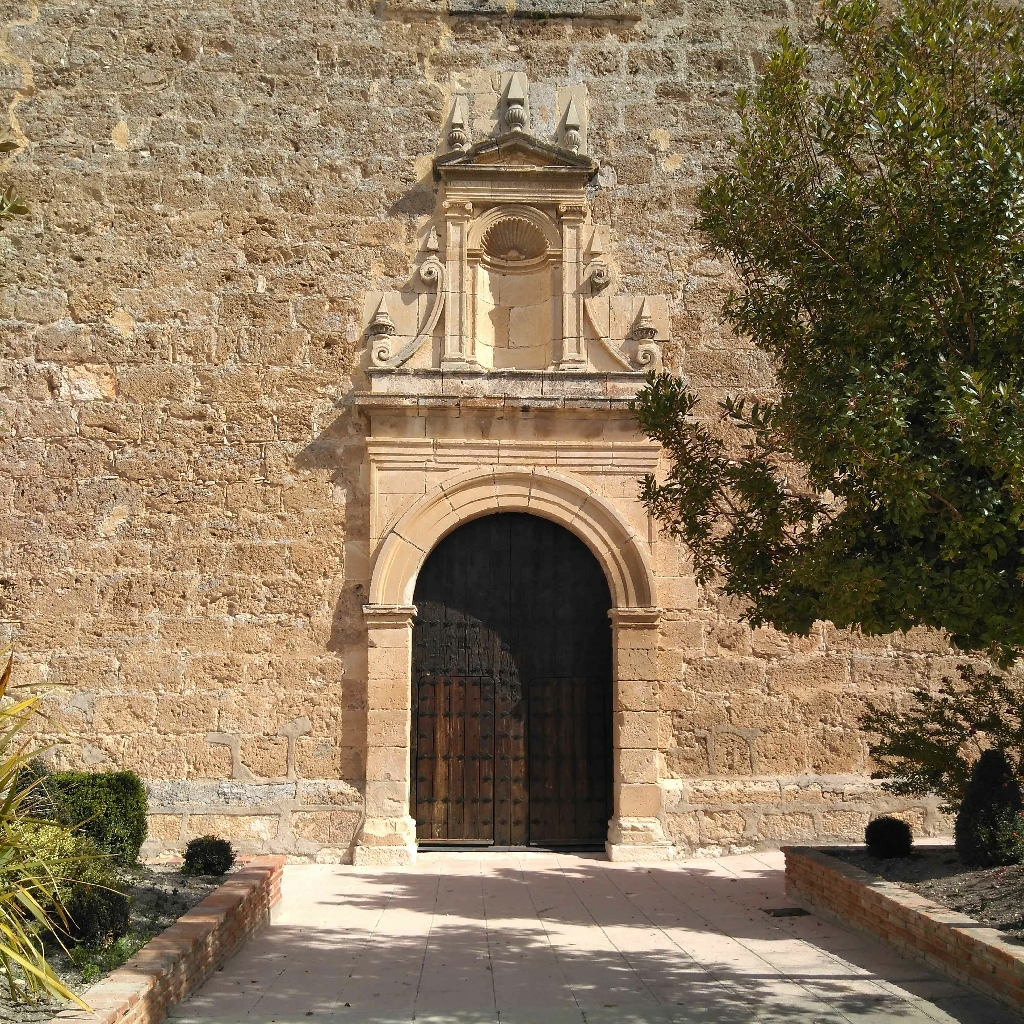arco-medio-punto: (393, 489, 639, 650)
fronton: (425, 123, 597, 177)
